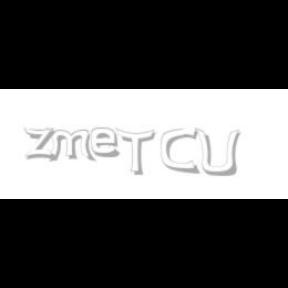C: (161, 128, 198, 174)
T: (115, 128, 155, 176)
U: (194, 128, 240, 178)
e: (90, 128, 124, 158)
m: (45, 128, 97, 162)
z: (23, 128, 59, 160)
